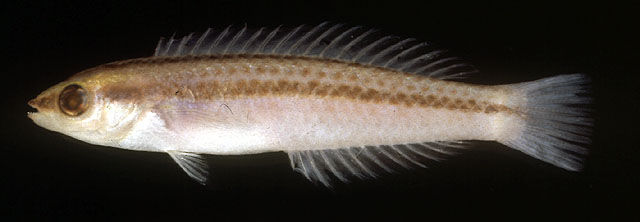fish: (27, 21, 590, 188)
